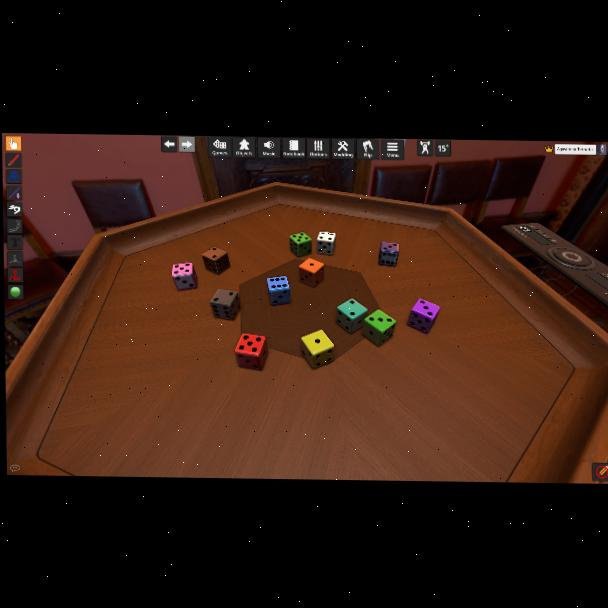d6: (235, 334, 269, 371), (299, 330, 331, 369), (364, 310, 396, 347), (408, 298, 439, 334), (336, 298, 365, 334), (209, 289, 238, 321), (268, 275, 293, 307), (201, 247, 227, 277), (172, 262, 198, 291), (298, 259, 322, 288), (289, 231, 310, 258), (377, 241, 398, 266), (316, 232, 335, 256)
